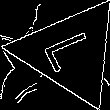L_NE: (37, 27, 102, 77)
